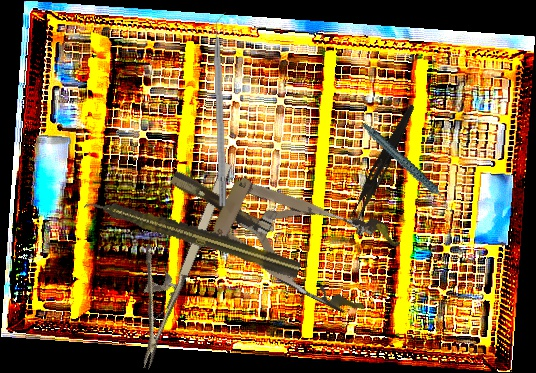Chopper: (212, 11, 238, 207)
Dressing Forceps: (346, 101, 417, 230)
Handpiece: (82, 191, 303, 281), (362, 109, 451, 223)
Needle Holder: (101, 146, 239, 371)
Speculum: (152, 130, 405, 323)
